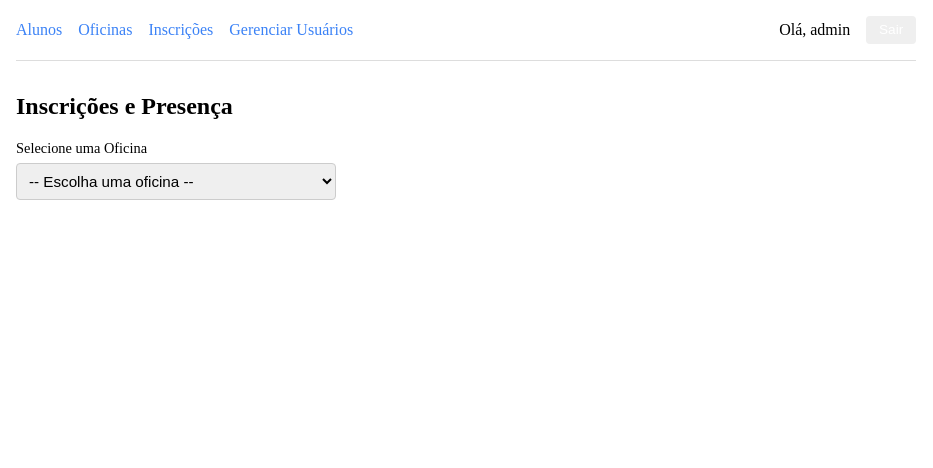
Test: InscricoesView › exibe badge "Presente" quando aluno tem presença confirmada
This screenshot has width=933, height=468.
Select "Java Básico — 10/07/2026" in the dropdown with id "sel-oficina". click: (176, 182)
box: [16,163,336,200]
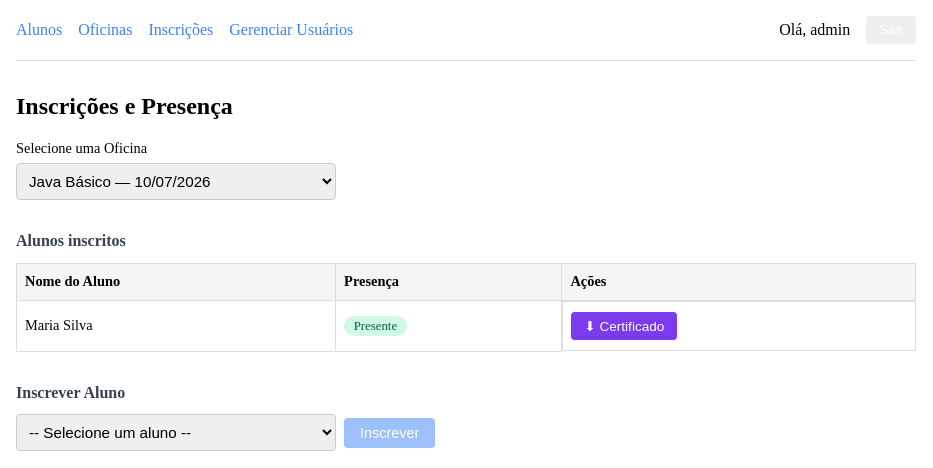
Check: the text "Presente" is shown, box [344,316,407,336]
Check: the text with class "badge-presente" reads "Presente", box [354,319,397,333]
